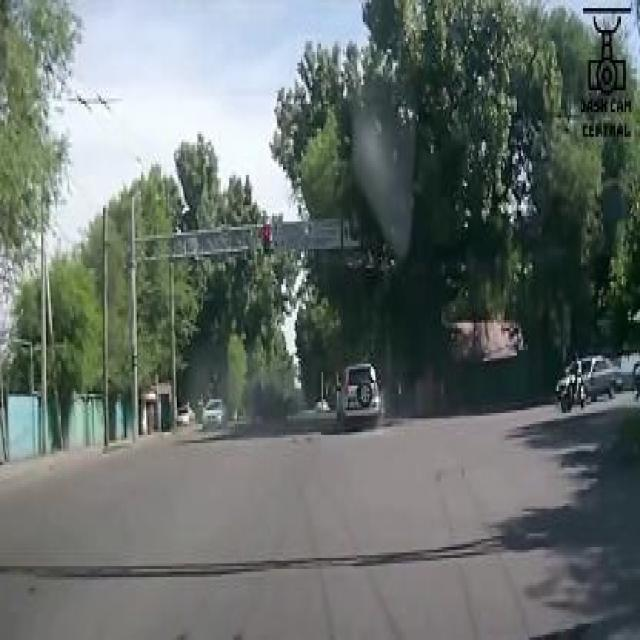accident: (237, 372, 298, 429)
